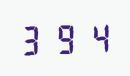four: (81, 19, 111, 54)
nine: (50, 20, 80, 55)
three: (18, 21, 48, 56)
